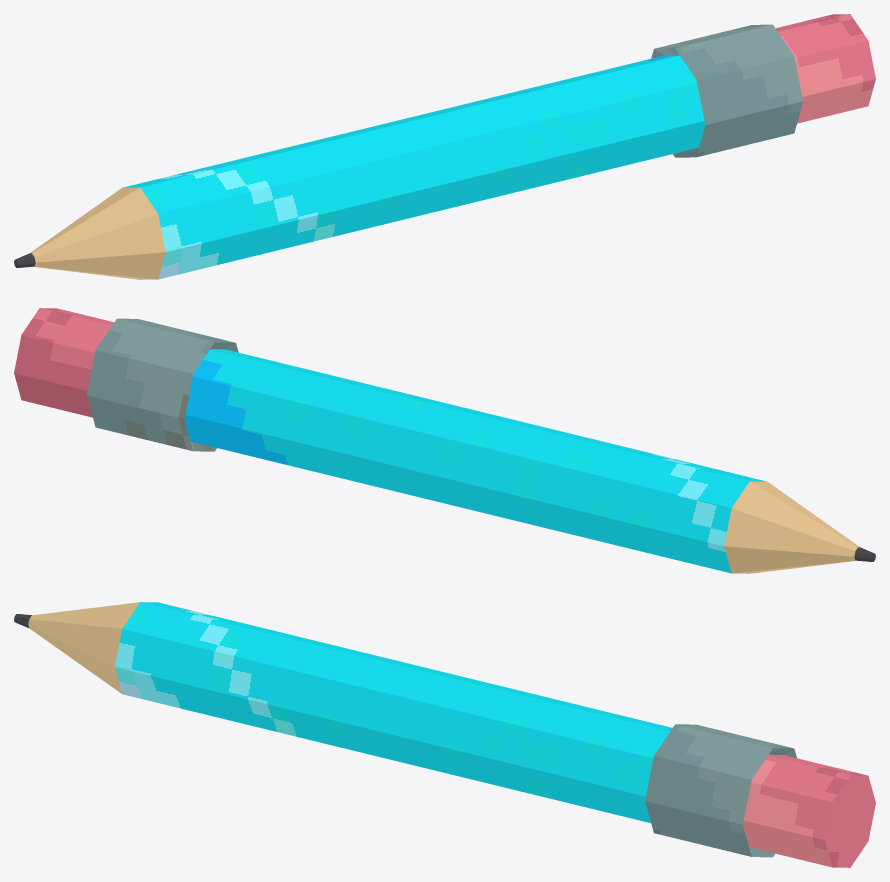
The model's file is pencilMedium.glb.
The picture shows the model from 3 angles, top to bottom: view 1: azimuth 30°, elevation 25°; view 2: azimuth 150°, elevation 25°; view 3: azimuth 330°, elevation 25°; orthographic projection.
Visible parts, largest first — view 1: PencilMedium; view 2: PencilMedium; view 3: PencilMedium.
Boxes of the visible parts, box(x1,y1,x2,y2) form: PencilMedium: box(14, 14, 875, 279); PencilMedium: box(14, 308, 875, 573); PencilMedium: box(14, 602, 875, 867).
Bounding box in the file's own units: 0.1684 × 0.0211 × 0.0211.
Materials: 5 (5 with a texture image).
